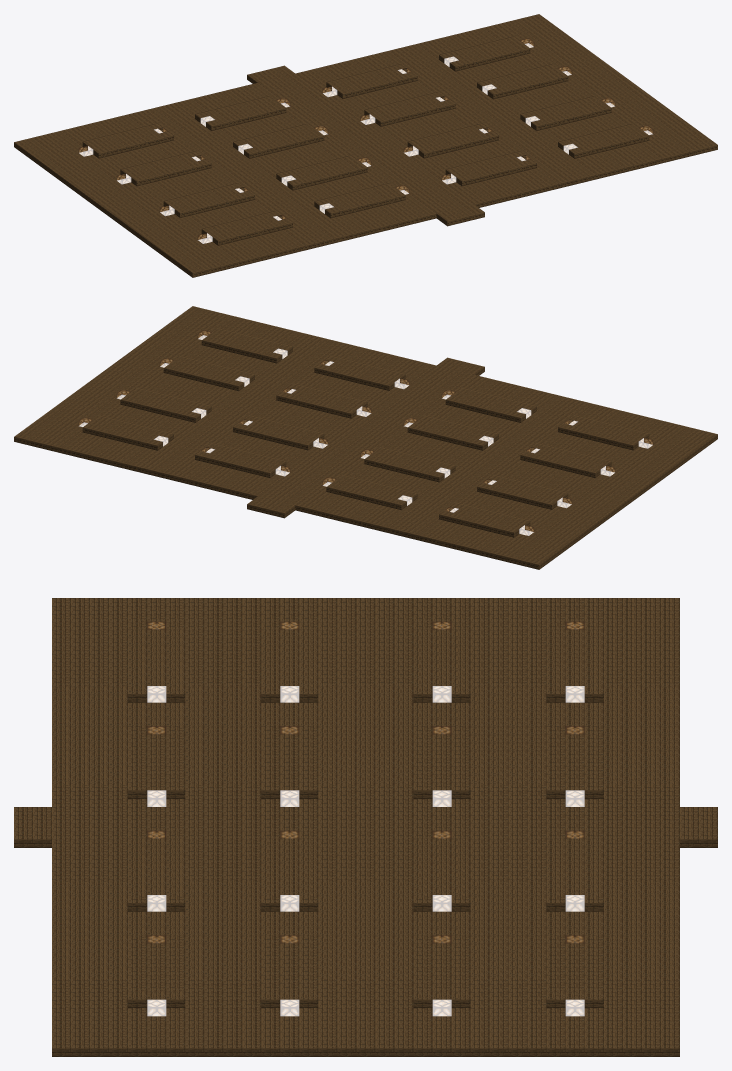
Rendered from storage_opt.glb.
3 views of the same model, one above another, from view 1: azimuth 30°, elevation 25°; view 2: azimuth 150°, elevation 25°; view 3: azimuth 270°, elevation 25° (orthographic). The views are drawn at different scales.
Visible parts, largest first — view 1: 床; view 2: 床; view 3: 床.
Part boxes in pixels (x1=…): 床: x1=14, y1=14, x2=717, y2=277; 床: x1=14, y1=306, x2=717, y2=569; 床: x1=14, y1=598, x2=717, y2=1056.
Size of the model in its own units: 56 by 0.9981 by 37.
Materials: 3 (3 with a texture image).
